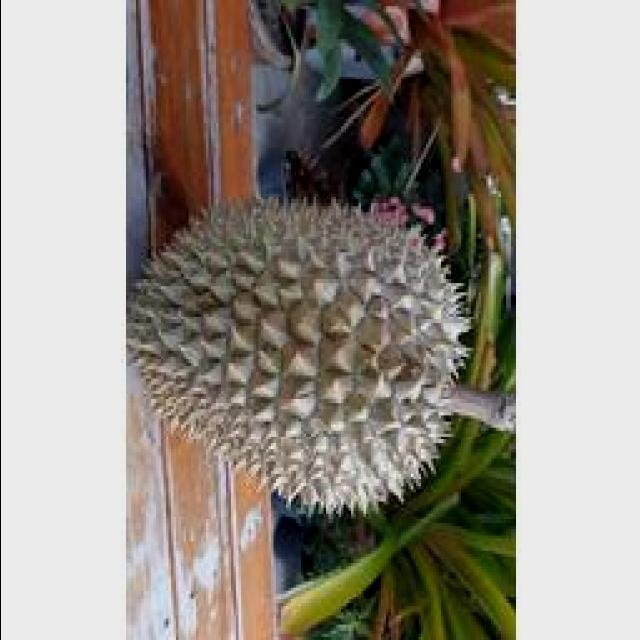agrume: (127, 185, 477, 539)
